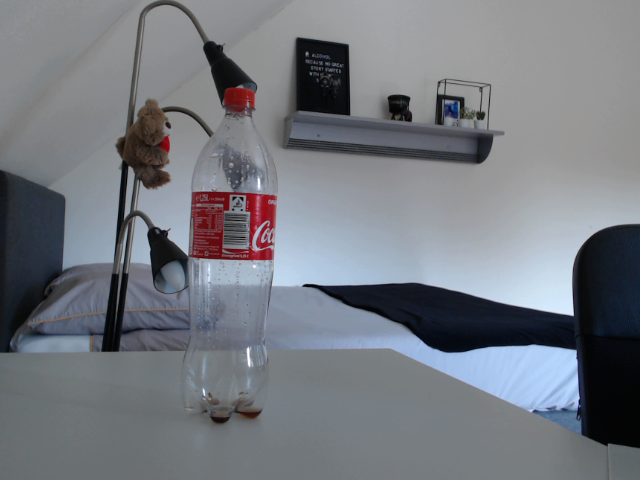bottle: (180, 86, 280, 423)
